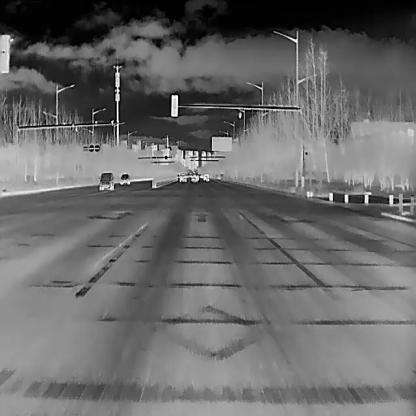car: (99, 172, 113, 190), (120, 173, 130, 185), (178, 171, 186, 182), (189, 173, 198, 182), (202, 172, 209, 181)
